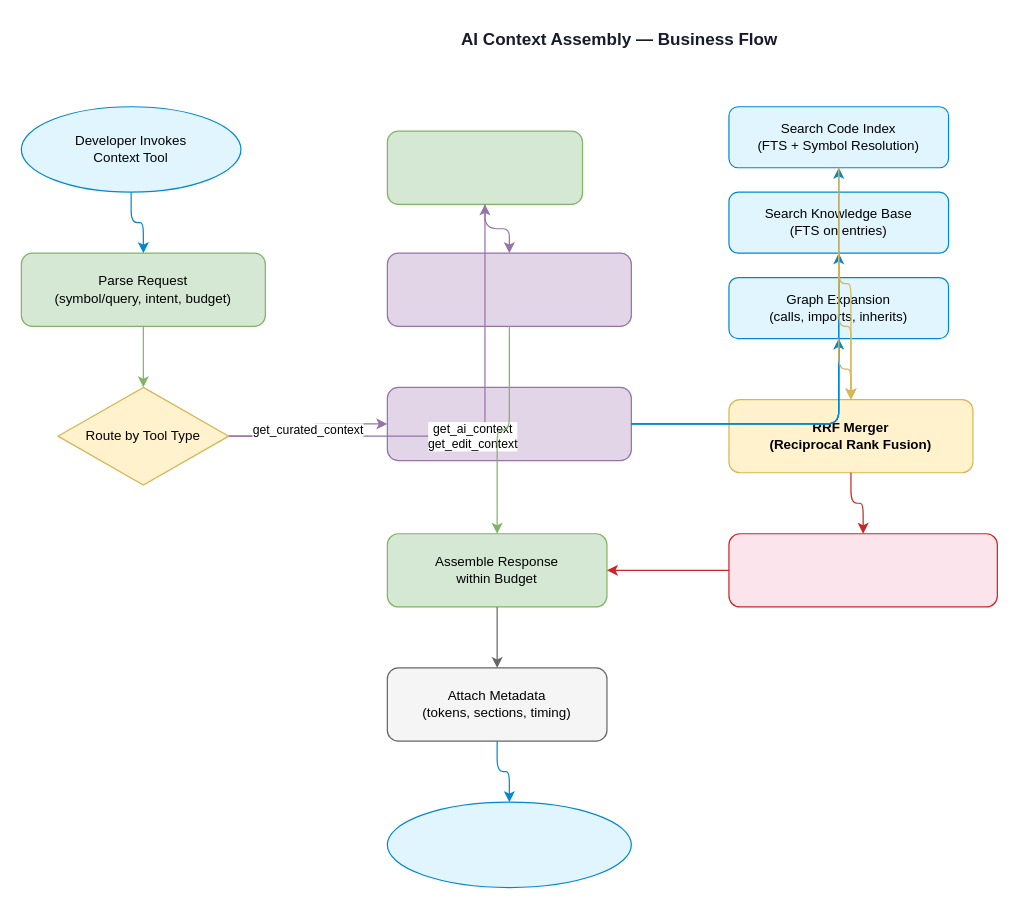
Image size: 1019x909. Some labels were removed from this diagram. Here are the shapes that lost their labels. From the top down, the centre of each, then its label:
point 484,167: Resolve Symbol (name or file:line)
point 508,289: Get Intent Strategy (explain/modify/debug/test)
point 508,423: Query Analyzer (keywords, symbols, FTS)
point 862,570: Token Budget Allocator (full → signature → reference)
point 508,844: Return Structured Context to Consumer
